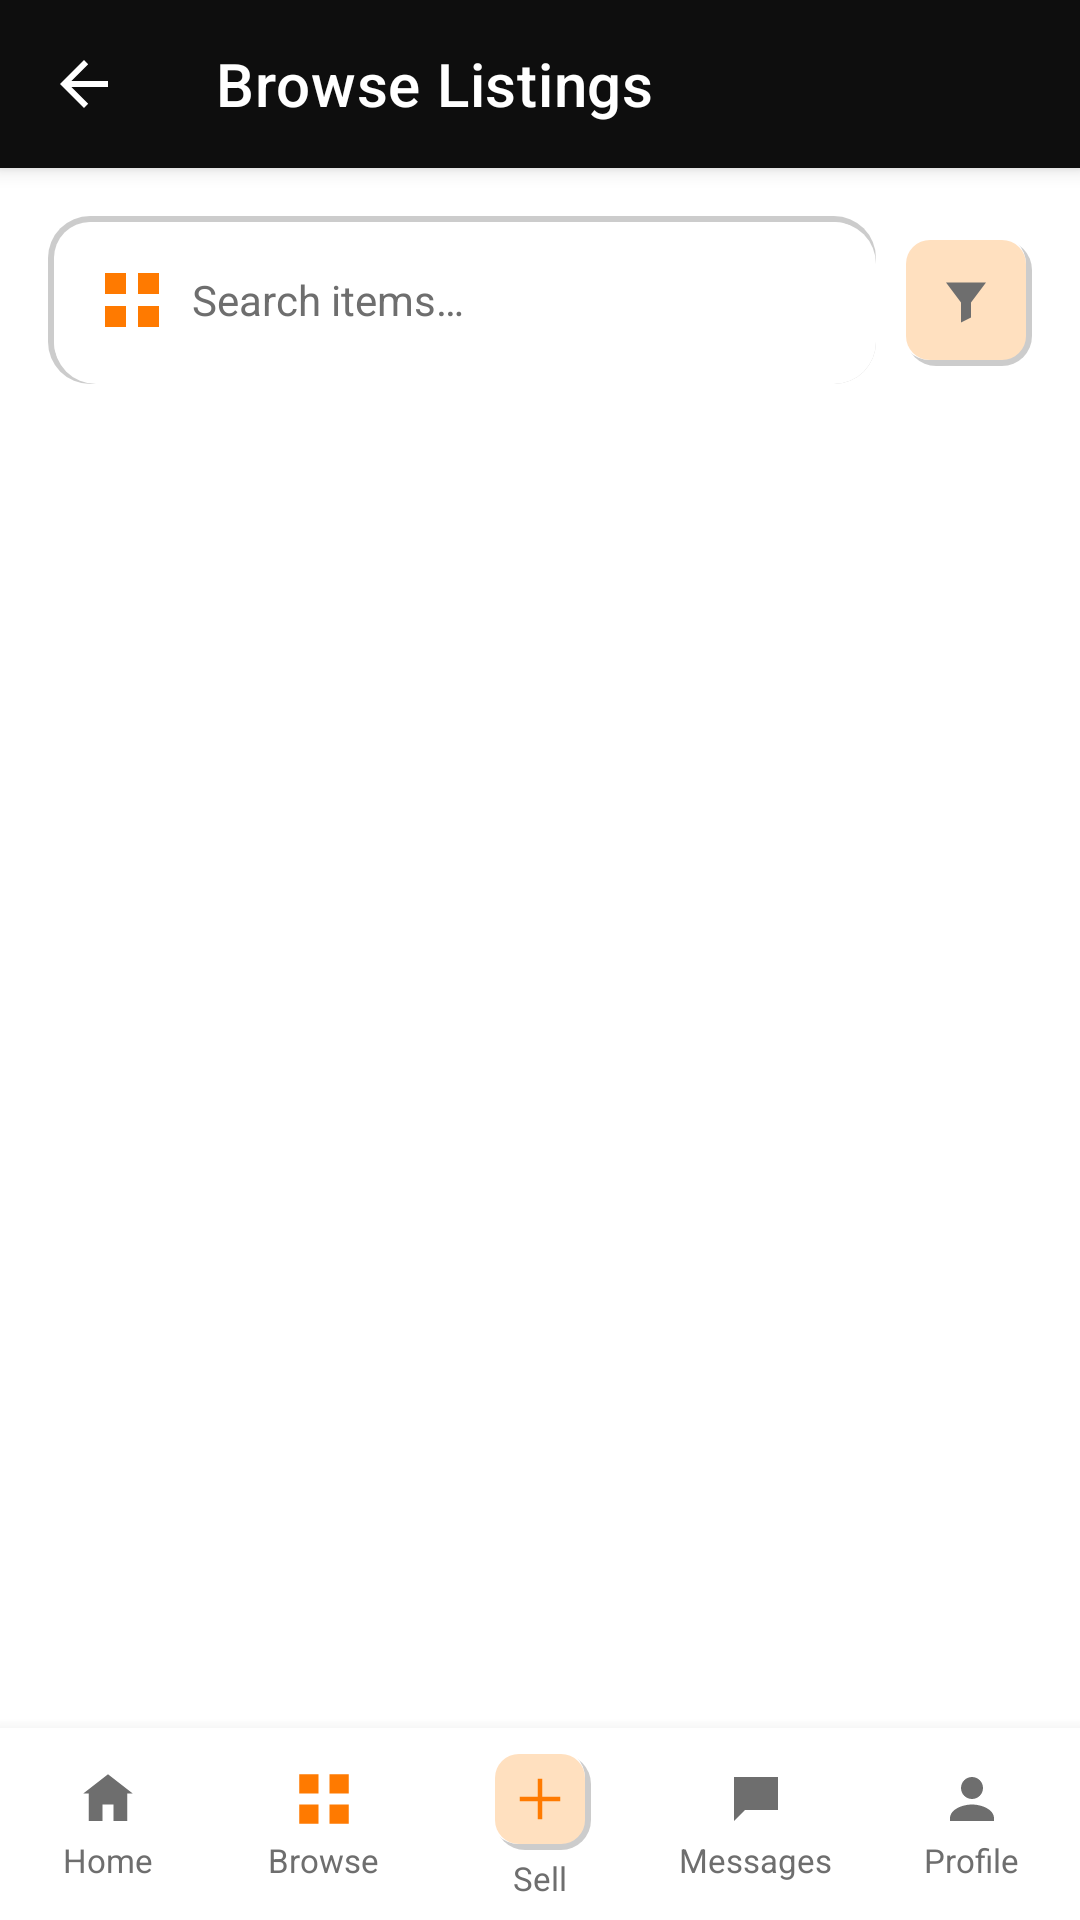

Screen size 1080 × 1920. Icon name, then its center in pixels as point (x, y):
Filter listings: point (966, 302)
